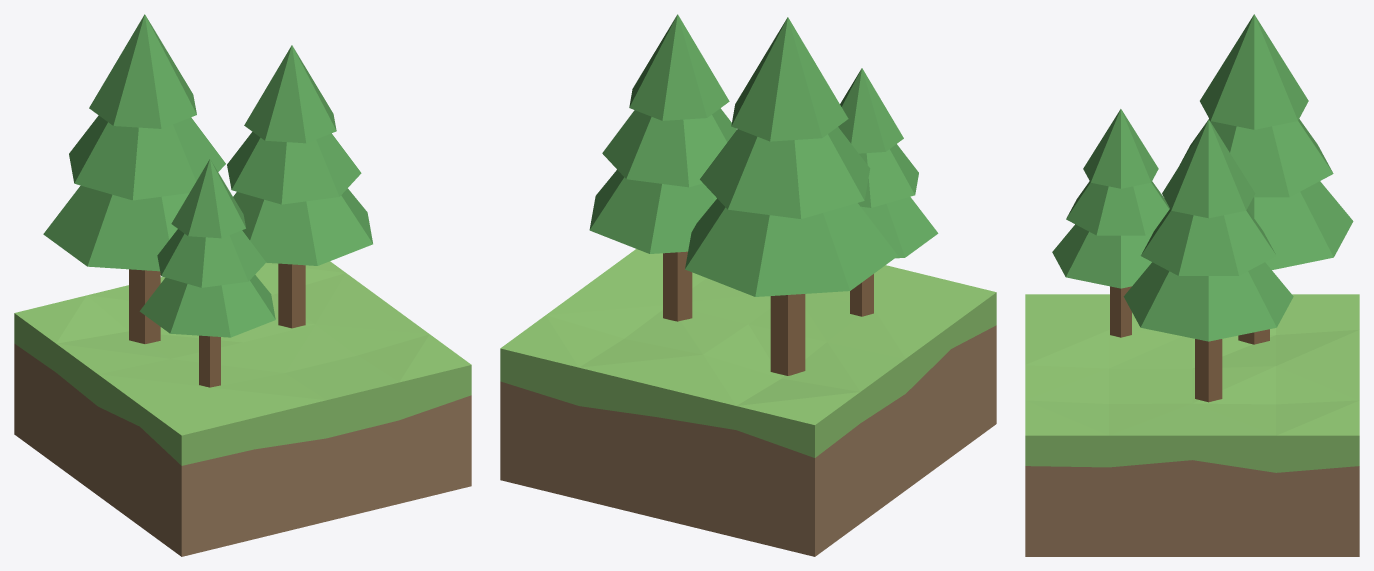
File: GrassTile_Center3.fbx
The picture shows the model from 3 angles, left to right: view 1: azimuth 30°, elevation 25°; view 2: azimuth 150°, elevation 25°; view 3: azimuth 270°, elevation 25°; orthographic projection. The views are drawn at different scales.
Parts seen in each view (by area): view 1: GrassTile_Center3; view 2: GrassTile_Center3; view 3: GrassTile_Center3.
Part boxes in pixels (x1=…): GrassTile_Center3: x1=14, y1=14, x2=471, y2=556; GrassTile_Center3: x1=500, y1=14, x2=996, y2=556; GrassTile_Center3: x1=1025, y1=14, x2=1359, y2=556.
Size of the model in its own units: 1.01 by 1.45 by 1.
